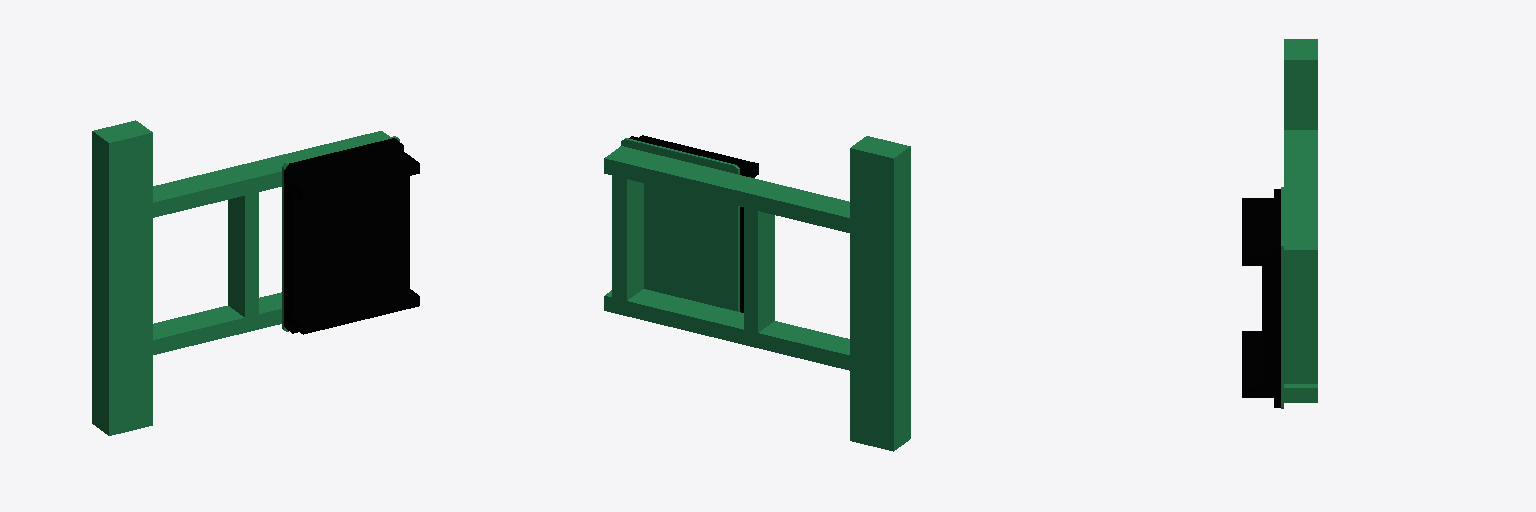
Rendered from x-slider_s.obj.
3 renders of one model, left to right at view 1: azimuth 30°, elevation 25°; view 2: azimuth 150°, elevation 25°; view 3: azimuth 270°, elevation 25°, orthographic.
Visible parts, largest first — view 1: x-slider_s; view 2: x-slider_s; view 3: x-slider_s.
Part boxes in pixels (bbox=[...]): x-slider_s: bbox=[92, 120, 419, 435]; x-slider_s: bbox=[604, 135, 910, 451]; x-slider_s: bbox=[1242, 39, 1317, 408].
Bounding box in the file's own units: 0.992 × 0.96 × 0.225.